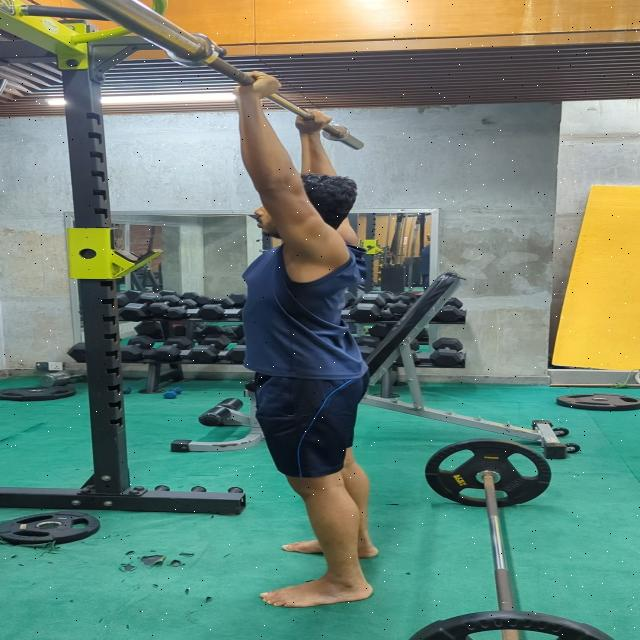Normal_OverheadPress: (216, 63, 391, 620)
